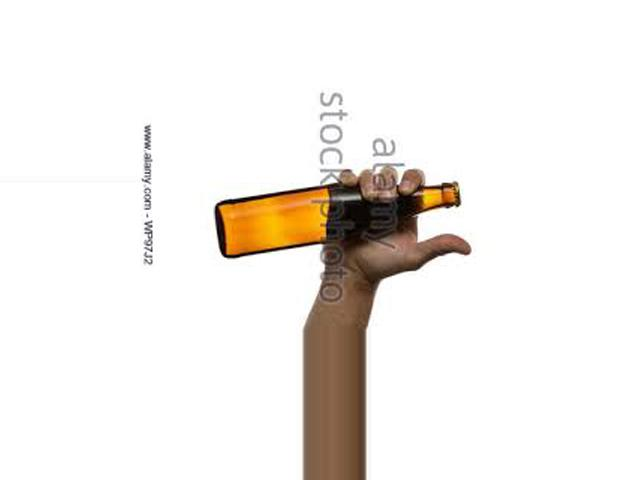beer: (215, 180, 457, 259)
